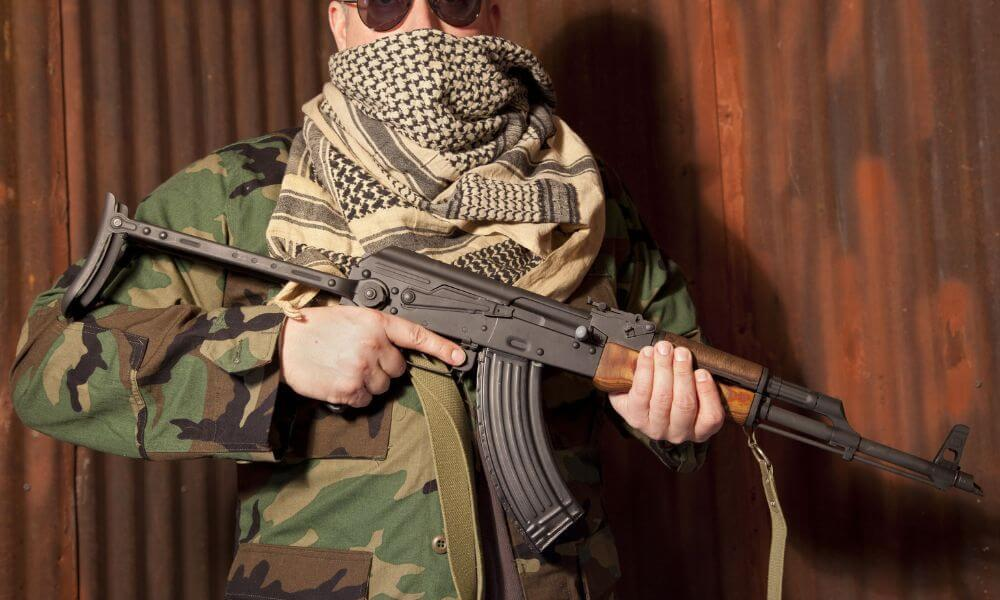larga: (60, 193, 988, 559)
